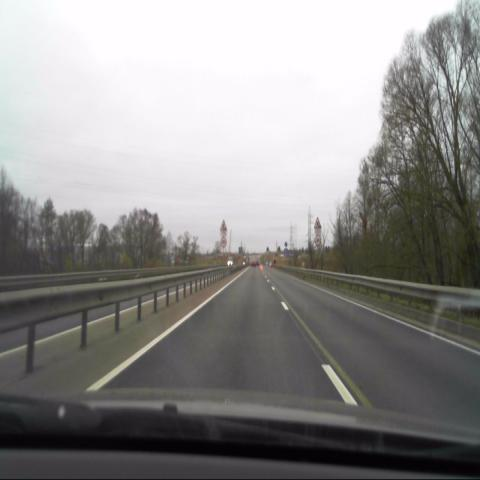1_25: (313, 217, 321, 229), (220, 220, 227, 232)
